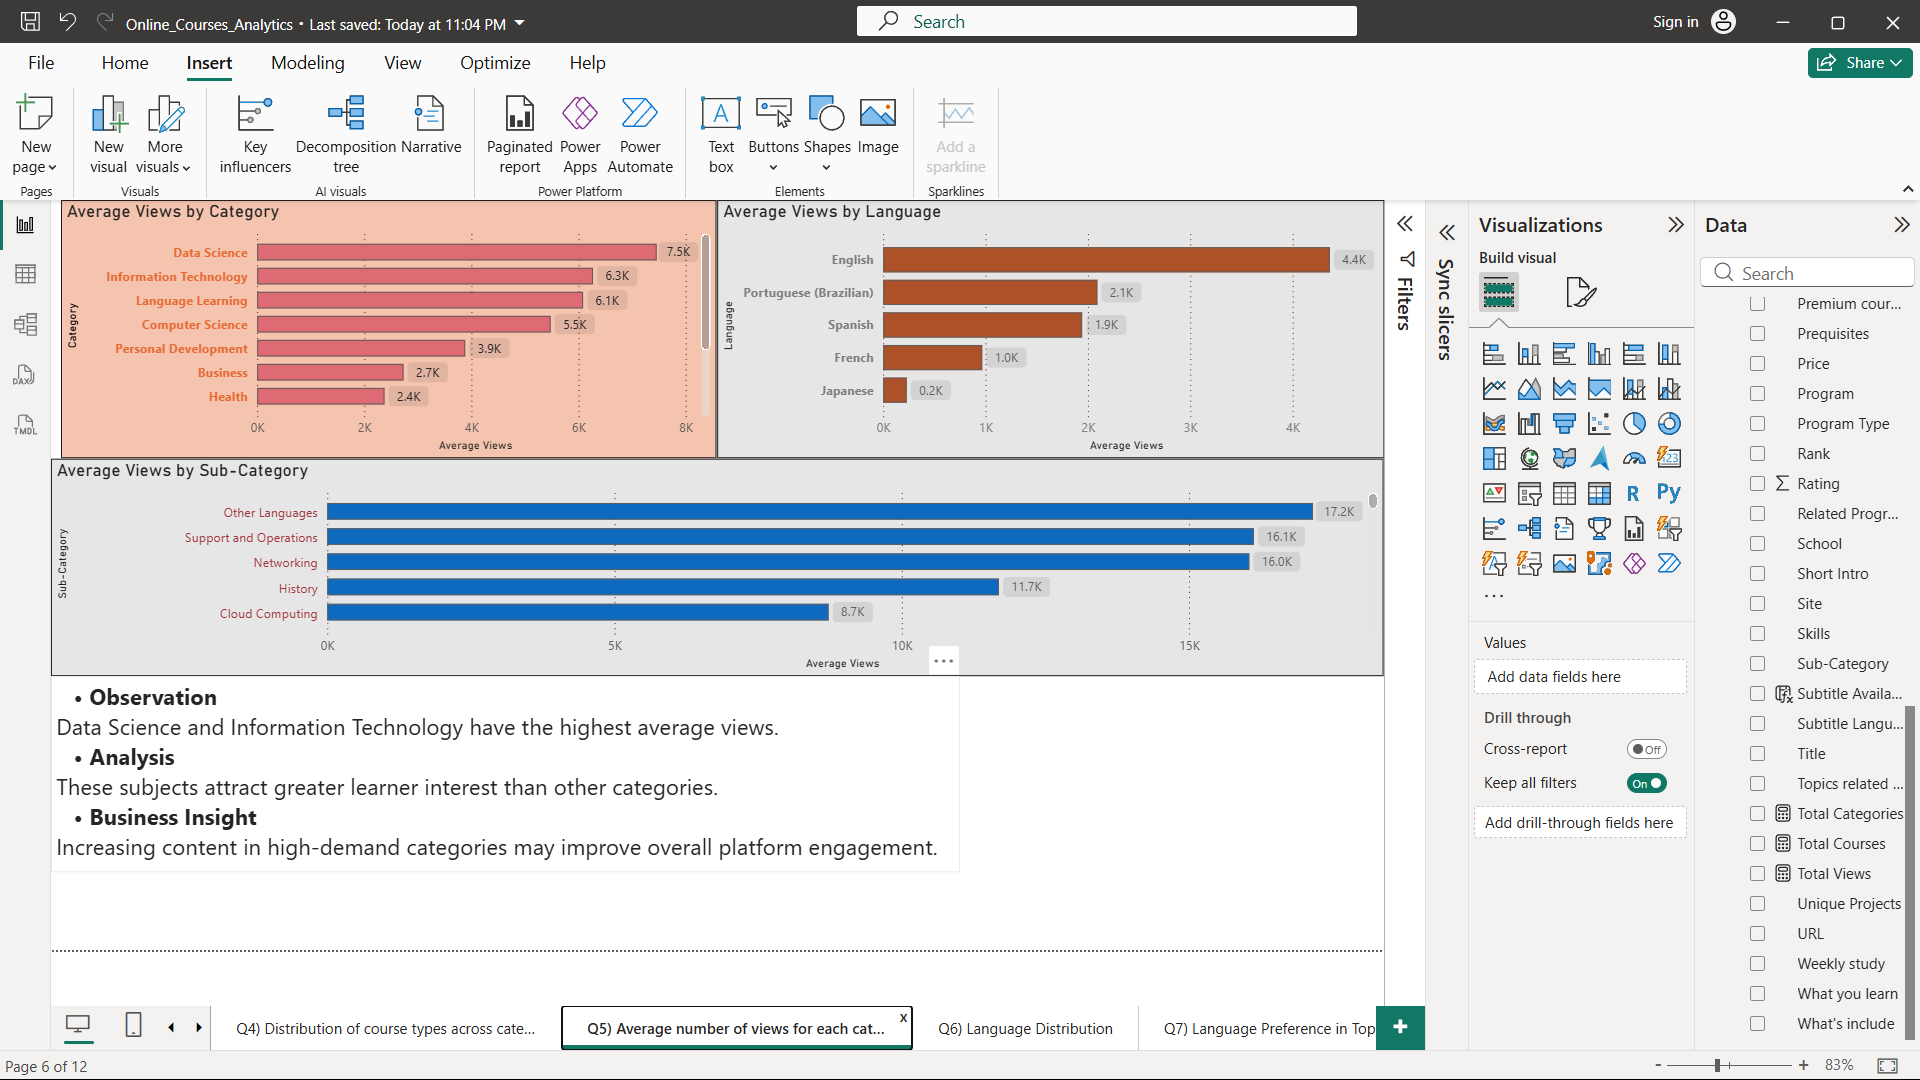

The page's visual inventory and layout, read from the dashboard file:
{"tool":"powerbi","page":{"name":"Q5) Average number of views for each category ","canvas":[1280,720],"ordinal":5},"visuals":[{"type":"clusteredBarChart","fields":{"Category":["Online_Courses.Category"],"Y":["Online_Courses.Average Views"]},"box":[9.6,0,629.8,248.4],"z":0},{"type":"clusteredBarChart","fields":{"Category":["Online_Courses.Sub-Category"],"Y":["Online_Courses.Average Views"]},"box":[0,248.4,1280.3,208.6],"z":1000},{"type":"clusteredBarChart","fields":{"Category":["Online_Courses.Language"],"Y":["Online_Courses.Average Views"]},"box":[639.5,0,640.8,248.4],"z":2000},{"type":"textbox","box":[0,456.9,872.7,189.4],"z":3000}]}

Visuals, with their boxes on the page's 1280x720 design canvas (x1, y1, x2, y2). These are canvas units, not pixel positions in the 1920x1080 screenshot, which may show the page scaled, cropped or inside an application window:
clusteredBarChart - Online_Courses.Category x Online_Courses.Average Views: (x1=10, y1=0, x2=639, y2=248)
clusteredBarChart - Online_Courses.Sub-Category x Online_Courses.Average Views: (x1=0, y1=248, x2=1280, y2=457)
clusteredBarChart - Online_Courses.Language x Online_Courses.Average Views: (x1=640, y1=0, x2=1280, y2=248)
textbox: (x1=0, y1=457, x2=873, y2=646)
